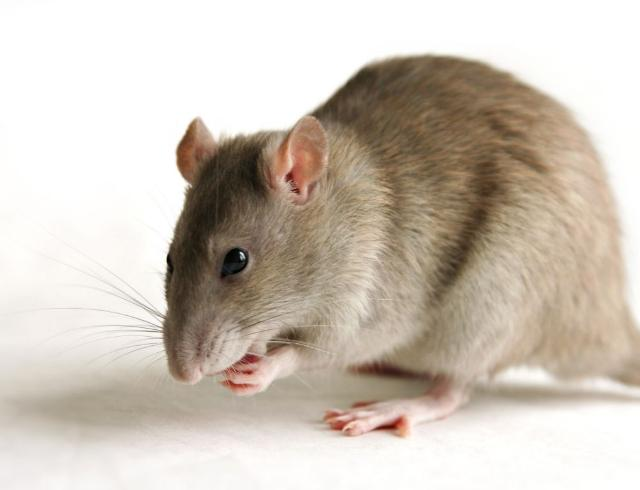rat: (126, 41, 640, 443)
